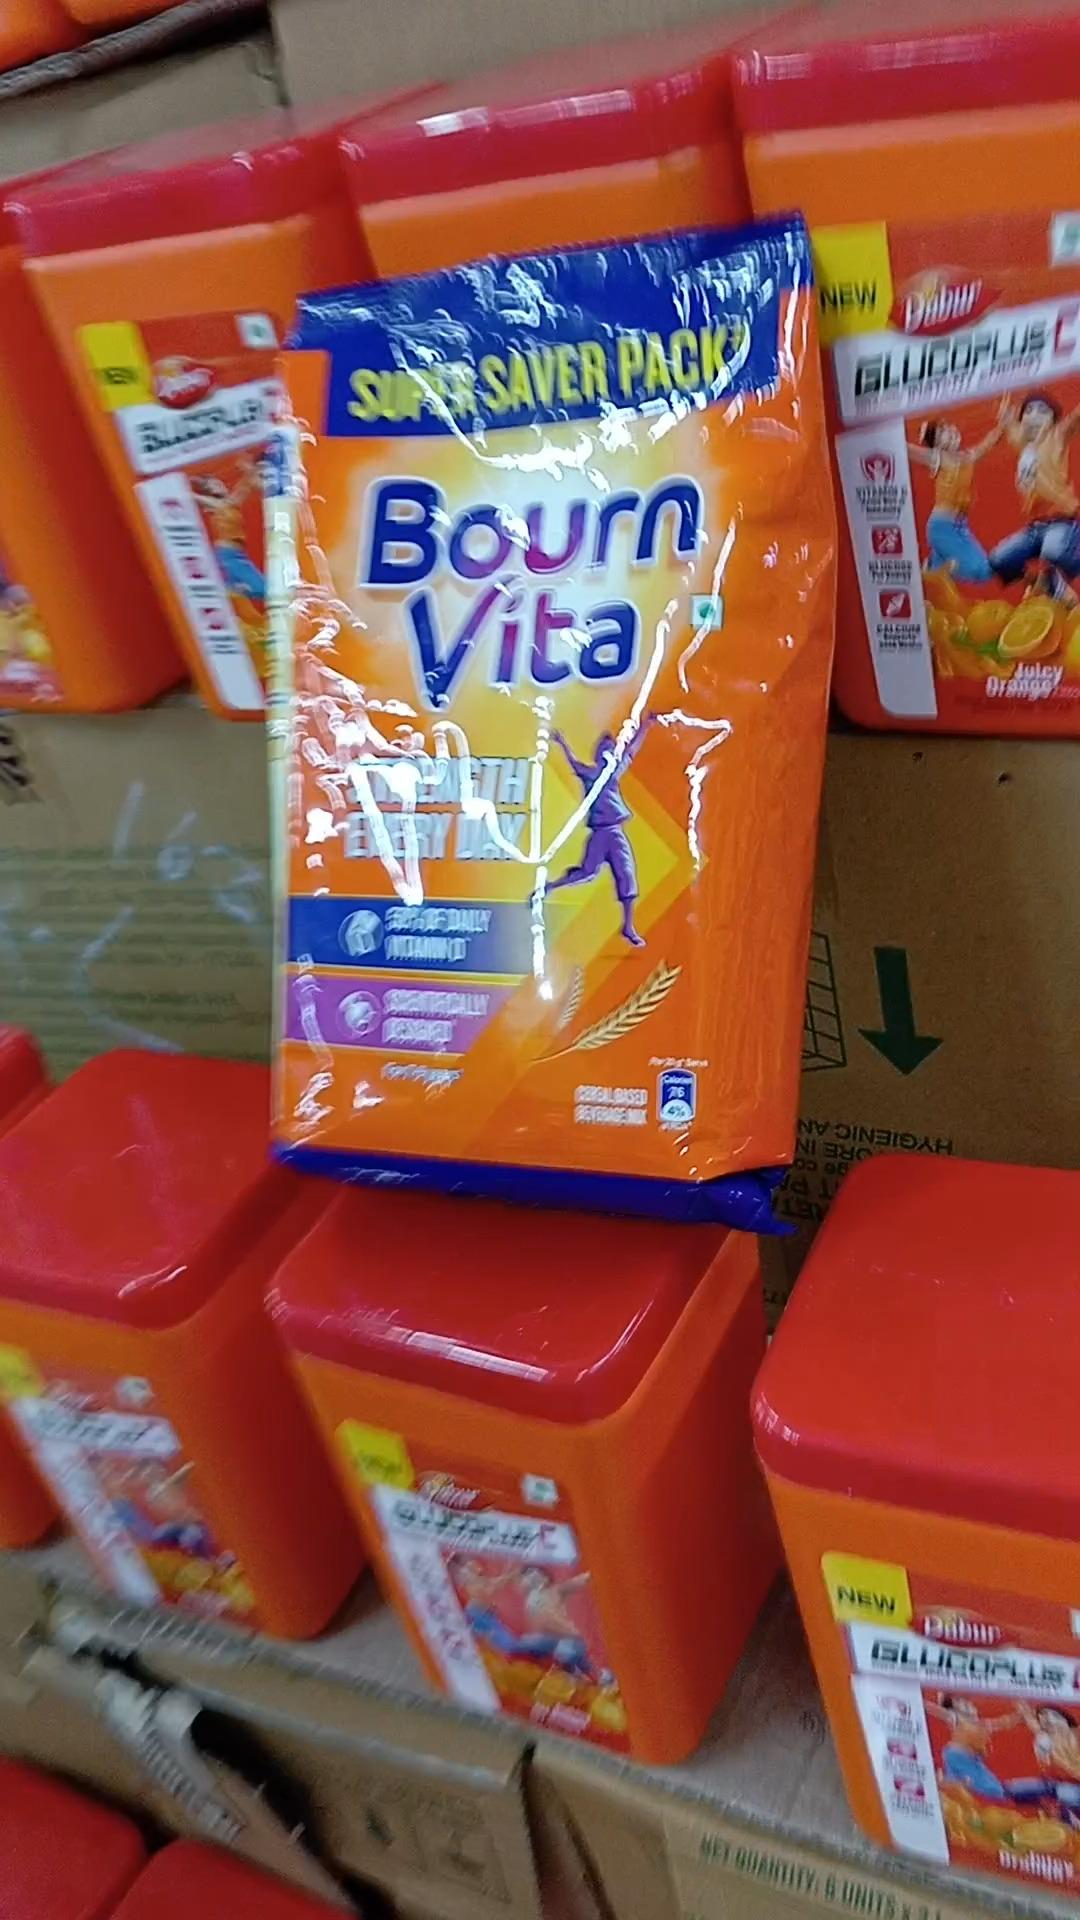BOURN_VITA_1_KG_POUCH: (260, 277, 794, 1212)
